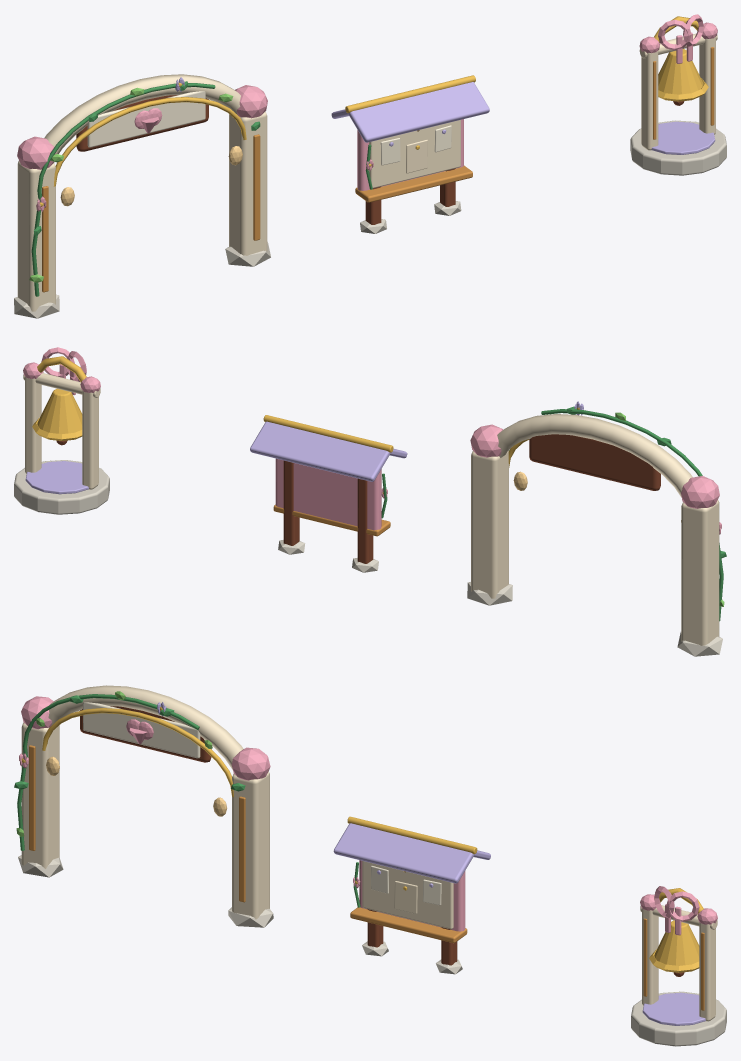
File: thornvale-arrival-plaza.glb
The picture shows the model from 3 angles, top to bottom: view 1: azimuth 30°, elevation 25°; view 2: azimuth 150°, elevation 25°; view 3: azimuth 330°, elevation 25°; orthographic projection.
Parts seen in each view (by area): view 1: WelcomeGate_Cream, CommunityLedger_Lavender, CommunityLedger_Cream, TownBell_Cream, WelcomeGate_Vanilla, TownBell_Stone_Light, WelcomeGate_Blush, TownBellSwing_Antique_Gold, TownBell_Lavender, TownBell_Blush, WelcomeGate_Leaf_Dark, WelcomeGate_Wood_Honey (+10 smaller); view 2: WelcomeGate_Cream, CommunityLedger_Lavender, CommunityLedger_Blush, WelcomeGate_Wood_Cocoa, TownBell_Cream, TownBell_Stone_Light, CommunityLedger_Wood_Cocoa, WelcomeGate_Blush, TownBellSwing_Antique_Gold, TownBell_Lavender, TownBell_Blush, WelcomeGate_Stone_Light (+4 smaller); view 3: WelcomeGate_Cream, CommunityLedger_Lavender, CommunityLedger_Cream, TownBell_Cream, WelcomeGate_Vanilla, TownBell_Stone_Light, WelcomeGate_Blush, TownBellSwing_Antique_Gold, TownBell_Lavender, TownBell_Blush, WelcomeGate_Leaf_Dark, CommunityLedger_Wood_Honey (+9 smaller).
Part boxes in pixels (box(x1,y1,x2,y2)): WelcomeGate_Cream: box(17, 74, 267, 311); CommunityLedger_Lavender: box(331, 82, 489, 146); CommunityLedger_Cream: box(369, 120, 460, 188); TownBell_Cream: box(639, 33, 717, 150); WelcomeGate_Vanilla: box(87, 91, 205, 147); TownBell_Stone_Light: box(630, 120, 726, 175); WelcomeGate_Blush: box(17, 85, 267, 211); TownBellSwing_Antique_Gold: box(658, 49, 708, 101); TownBell_Lavender: box(651, 121, 715, 154); TownBell_Blush: box(639, 14, 717, 63); WelcomeGate_Leaf_Dark: box(31, 81, 260, 296); WelcomeGate_Wood_Honey: box(42, 134, 260, 292); WelcomeGate_Cream: box(471, 414, 719, 645); CommunityLedger_Lavender: box(250, 421, 407, 481); CommunityLedger_Blush: box(275, 458, 387, 530); WelcomeGate_Wood_Cocoa: box(529, 434, 660, 490); TownBell_Cream: box(23, 373, 100, 489); TownBell_Stone_Light: box(14, 460, 109, 514); CommunityLedger_Wood_Cocoa: box(283, 460, 373, 563); WelcomeGate_Blush: box(470, 424, 721, 534); TownBellSwing_Antique_Gold: box(32, 388, 82, 440); TownBell_Lavender: box(25, 461, 88, 494); TownBell_Blush: box(23, 347, 100, 395); WelcomeGate_Stone_Light: box(467, 582, 722, 656); WelcomeGate_Cream: box(21, 685, 269, 919); CommunityLedger_Lavender: box(333, 823, 490, 887); CommunityLedger_Cream: box(362, 861, 453, 929); TownBell_Cream: box(640, 905, 717, 1021); WelcomeGate_Vanilla: box(83, 702, 200, 758); TownBell_Stone_Light: box(631, 991, 726, 1046); WelcomeGate_Blush: box(19, 696, 270, 780); TownBellSwing_Antique_Gold: box(649, 920, 699, 972); TownBell_Lavender: box(642, 992, 705, 1025); TownBell_Blush: box(640, 886, 717, 935); WelcomeGate_Leaf_Dark: box(14, 694, 245, 850); CommunityLedger_Wood_Honey: box(350, 907, 467, 943).
Size of the model in its own units: 13.66 by 3.98 by 1.64.
